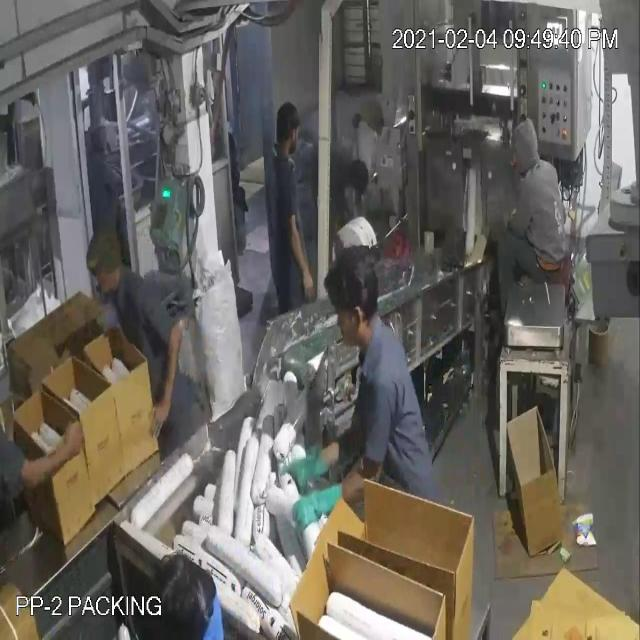gloves: (288, 473, 348, 545), (277, 434, 335, 506)
no-gloves: (135, 298, 191, 452), (18, 417, 92, 507), (283, 196, 319, 318)
